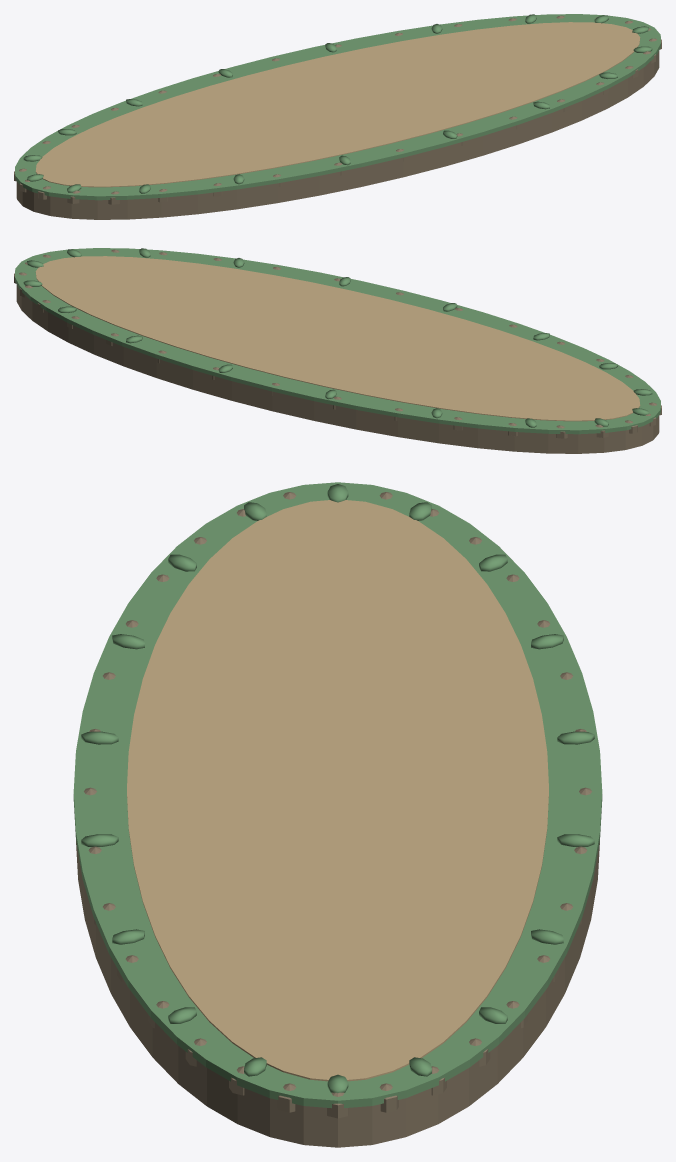
Rendered from MosswoodArena.fbx.
3 views of the same model, one above another, from view 1: azimuth 30°, elevation 25°; view 2: azimuth 150°, elevation 25°; view 3: azimuth 270°, elevation 25° (orthographic). The views are drawn at different scales.
Visible parts, largest first — view 1: MosswoodArena; view 2: MosswoodArena; view 3: MosswoodArena.
Part boxes in pixels (box(x1,y1,x2,y2)): MosswoodArena: box(14, 14, 661, 219); MosswoodArena: box(14, 248, 661, 453); MosswoodArena: box(73, 482, 602, 1147).
Size of the model in its own units: 2016 by 84 by 726.
1 material, 1 textured.
